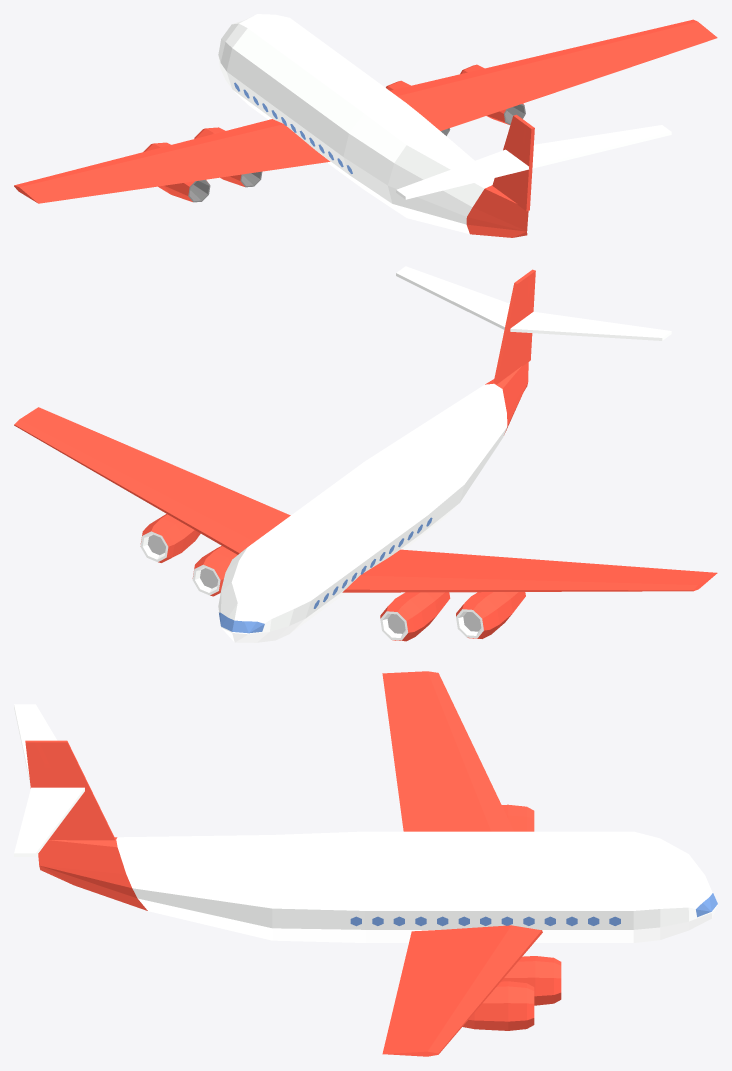
File: transport_air.001.glb
3 views of the same model, one above another, from view 1: azimuth 30°, elevation 25°; view 2: azimuth 150°, elevation 25°; view 3: azimuth 270°, elevation 25° (orthographic). The views are drawn at different scales.
Parts seen in each view (by area): view 1: transport_air.001(Clone); view 2: transport_air.001(Clone); view 3: transport_air.001(Clone).
Part boxes in pixels (bbox=[...]): transport_air.001(Clone): bbox=[14, 14, 717, 237]; transport_air.001(Clone): bbox=[14, 266, 717, 642]; transport_air.001(Clone): bbox=[14, 671, 717, 1056].
Bounding box in the file's own units: 41.21 × 10.52 × 32.17.
Materials: 1 (1 with a texture image).
